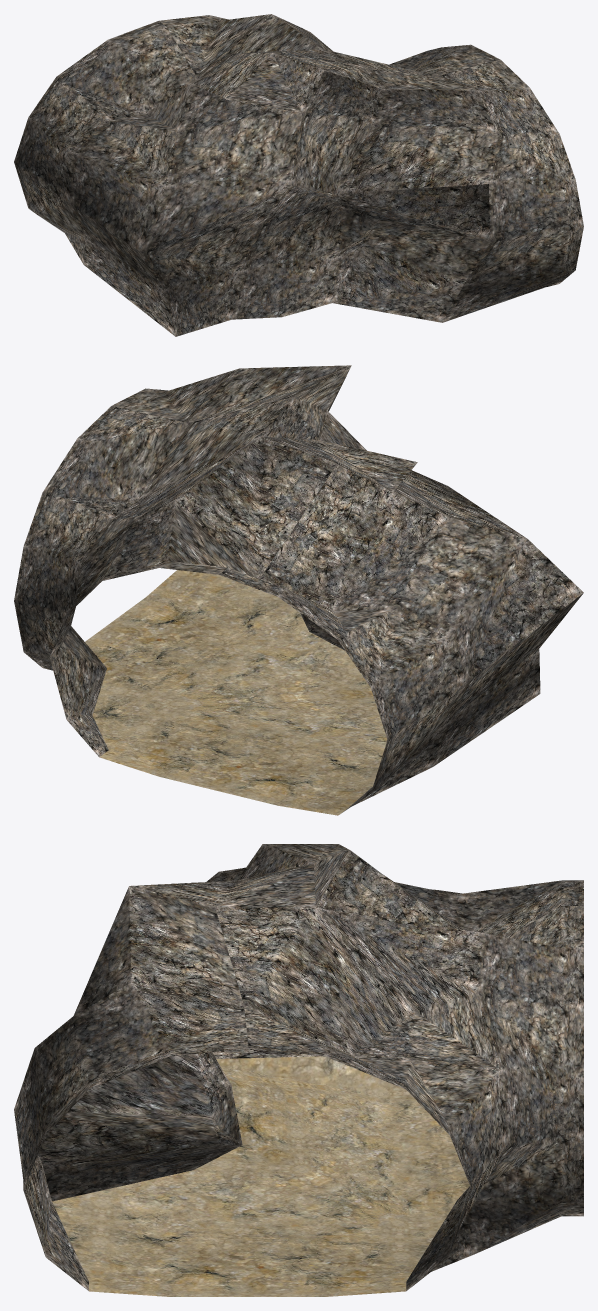
The model's file is pir_m_are_cav_elbow150.fbx.
3 renders of one model, top to bottom at view 1: azimuth 30°, elevation 25°; view 2: azimuth 150°, elevation 25°; view 3: azimuth 270°, elevation 25°, orthographic. The views are drawn at different scales.
Visible parts, largest first — view 1: elbow150_wall; view 2: elbow150_wall, elbow150_floor; view 3: elbow150_wall, elbow150_floor.
Boxes of the visible parts, box(x1,y1,x2,y2) form: elbow150_wall: box(14, 14, 583, 336); elbow150_wall: box(14, 365, 583, 813); elbow150_floor: box(85, 570, 387, 815); elbow150_wall: box(14, 844, 583, 1290); elbow150_floor: box(52, 1056, 469, 1296).
Size of the model in its own units: 13221 by 7566 by 12709.
Materials: 2 (2 with a texture image).
